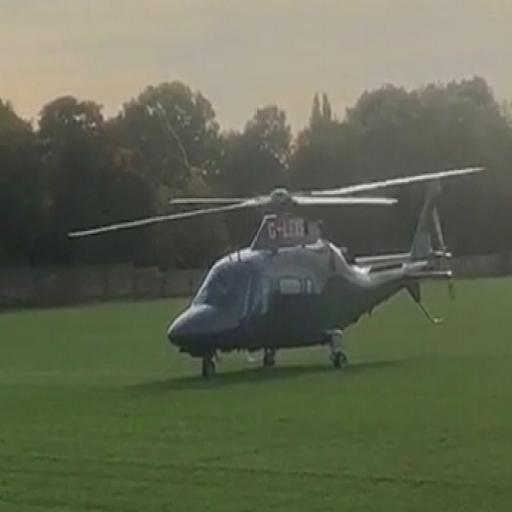helicopter: (67, 155, 490, 383)
